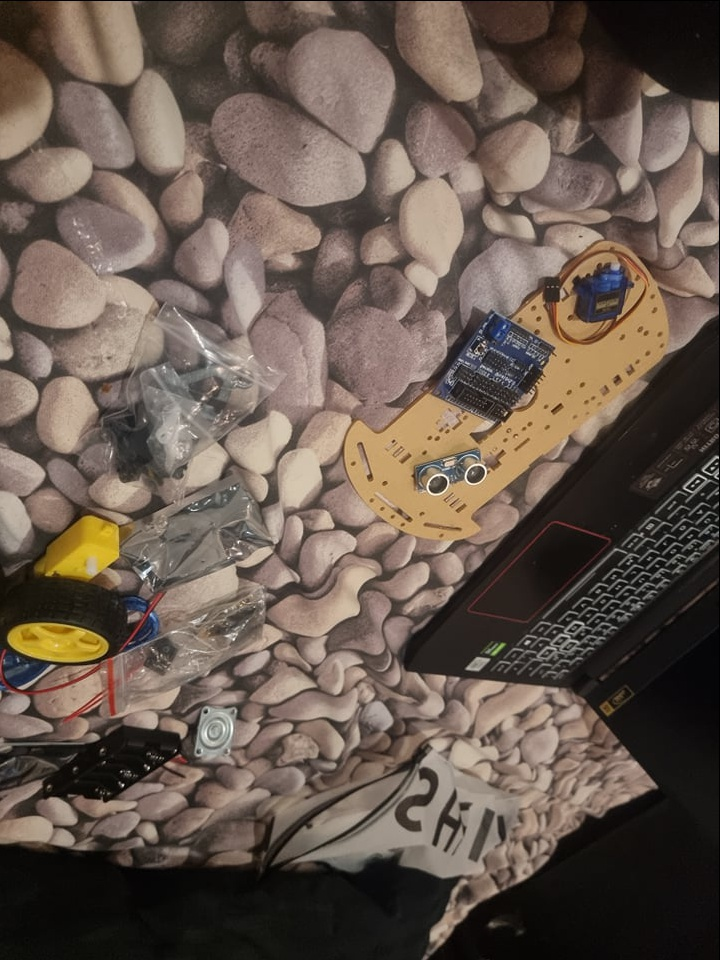5V EXPANSION: (428, 309, 559, 423)
BATTERY BOX: (40, 722, 181, 819)
SENSOR: (414, 447, 490, 497)
